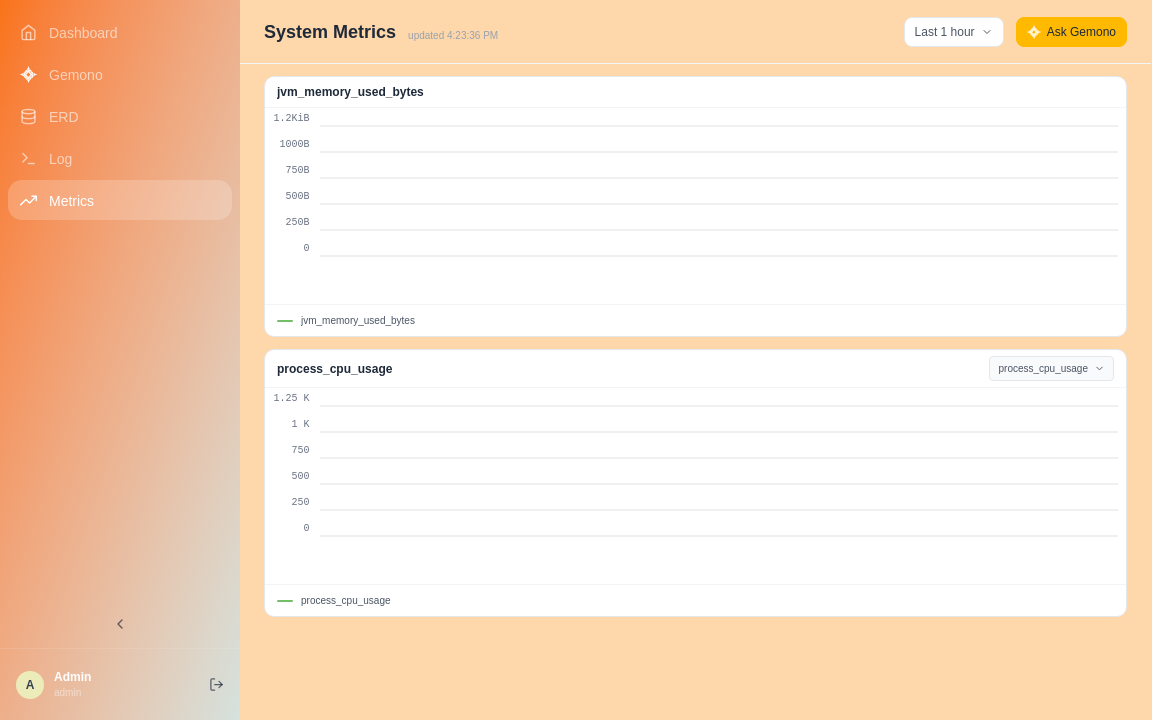
Scenario: MetricsPage › dropdown range mengubah hours + step lalu menarik ulang metrik
Click the button "Last 1 hour": (954, 32) [904, 16, 1004, 46]
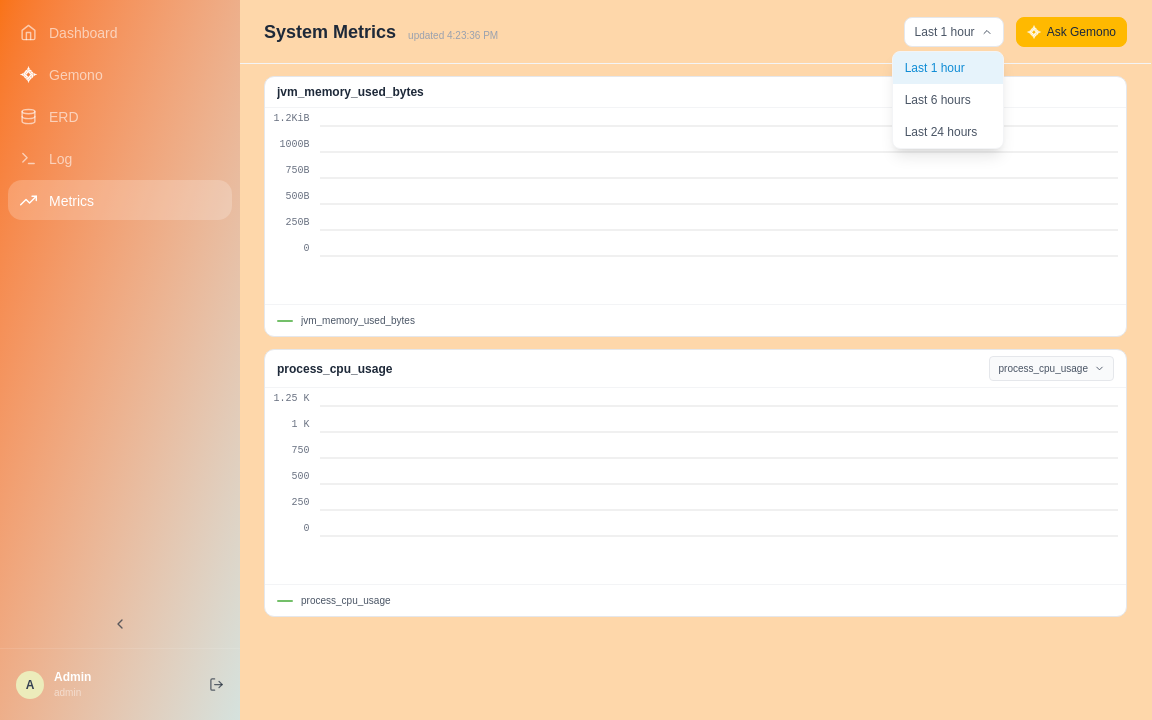
Click the button "Last 6 hours": (948, 100) [893, 84, 1003, 116]
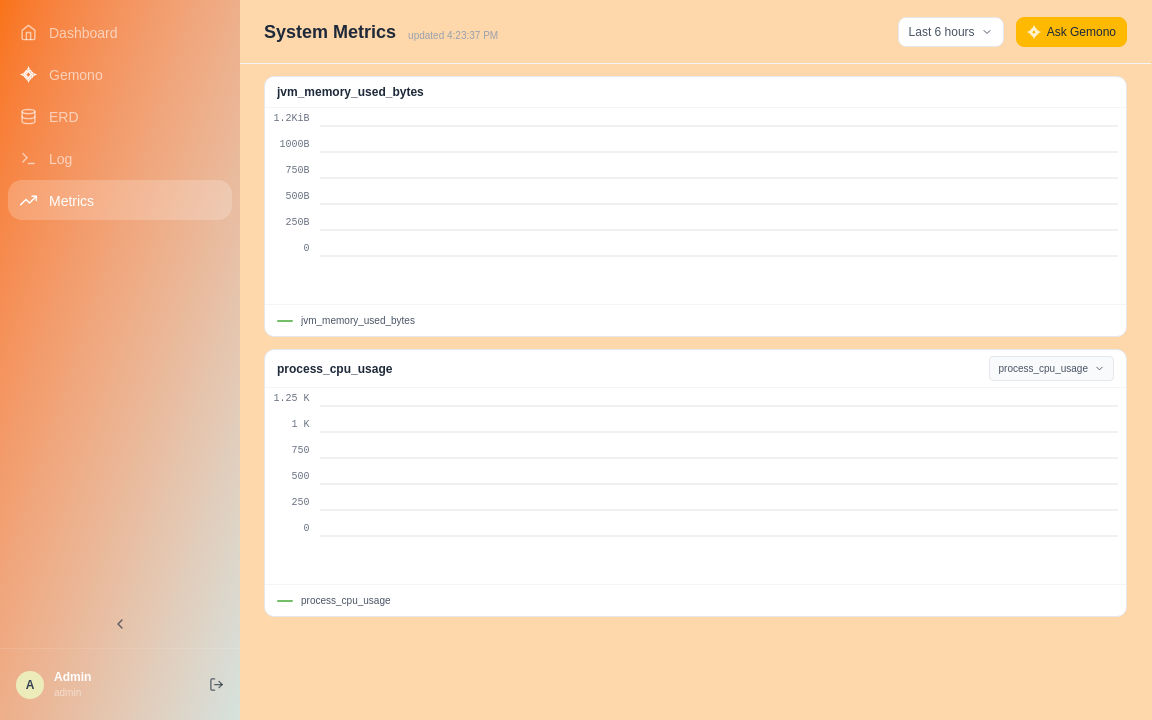
Result: the button "Last 6 hours" is shown at [898, 16, 1004, 46]
